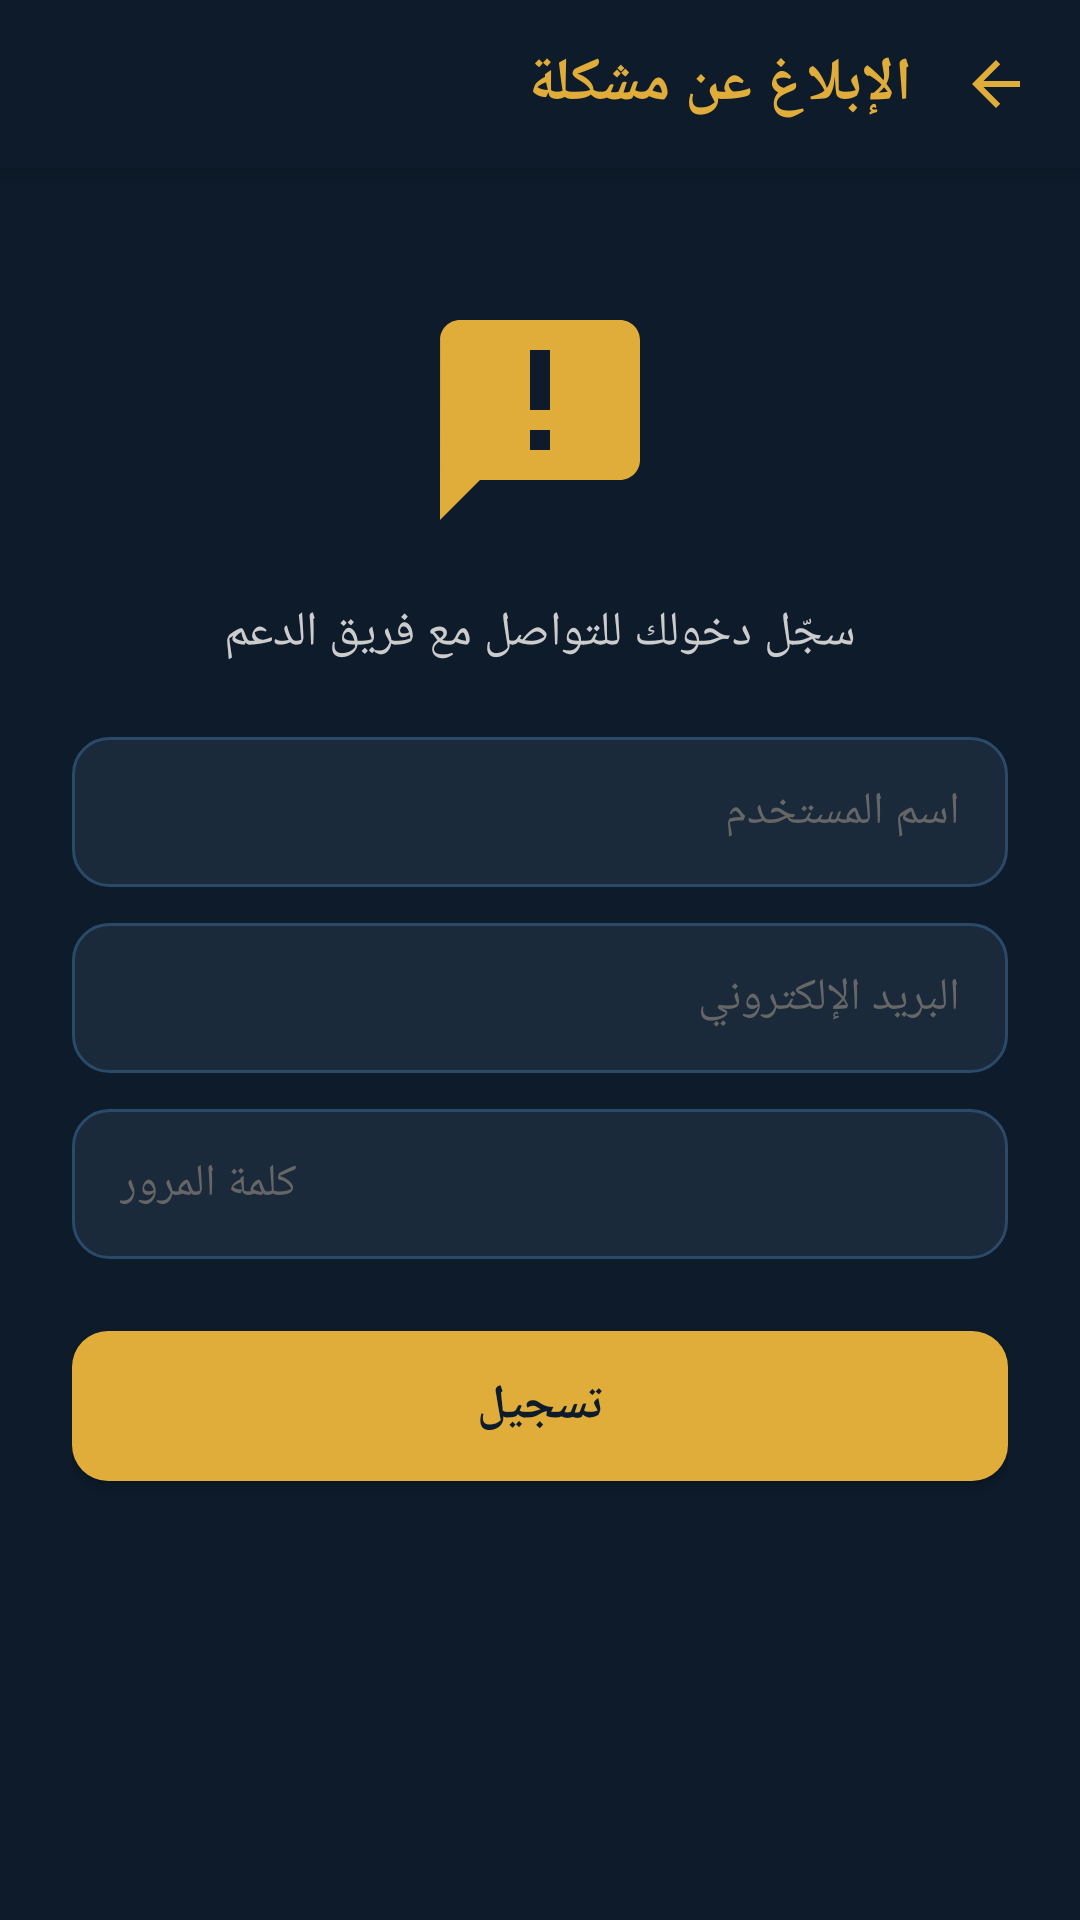

Locate icon controls on the screen. Image size 1080 × 1920, boxes as bbox=(x1, y1, x2, y2).
report: bbox=(440, 320, 640, 520)
رجوع: bbox=(972, 60, 1020, 108)
